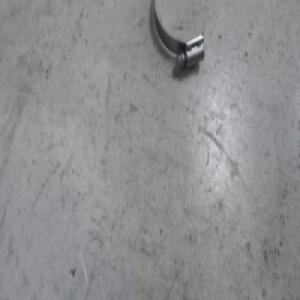AdjustableClamp: (154, 1, 207, 69)
